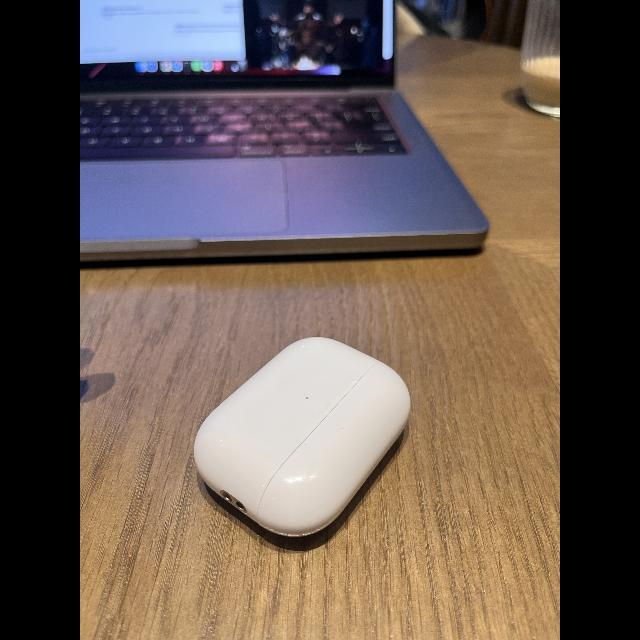AirPods Pro: (186, 332, 414, 546)
